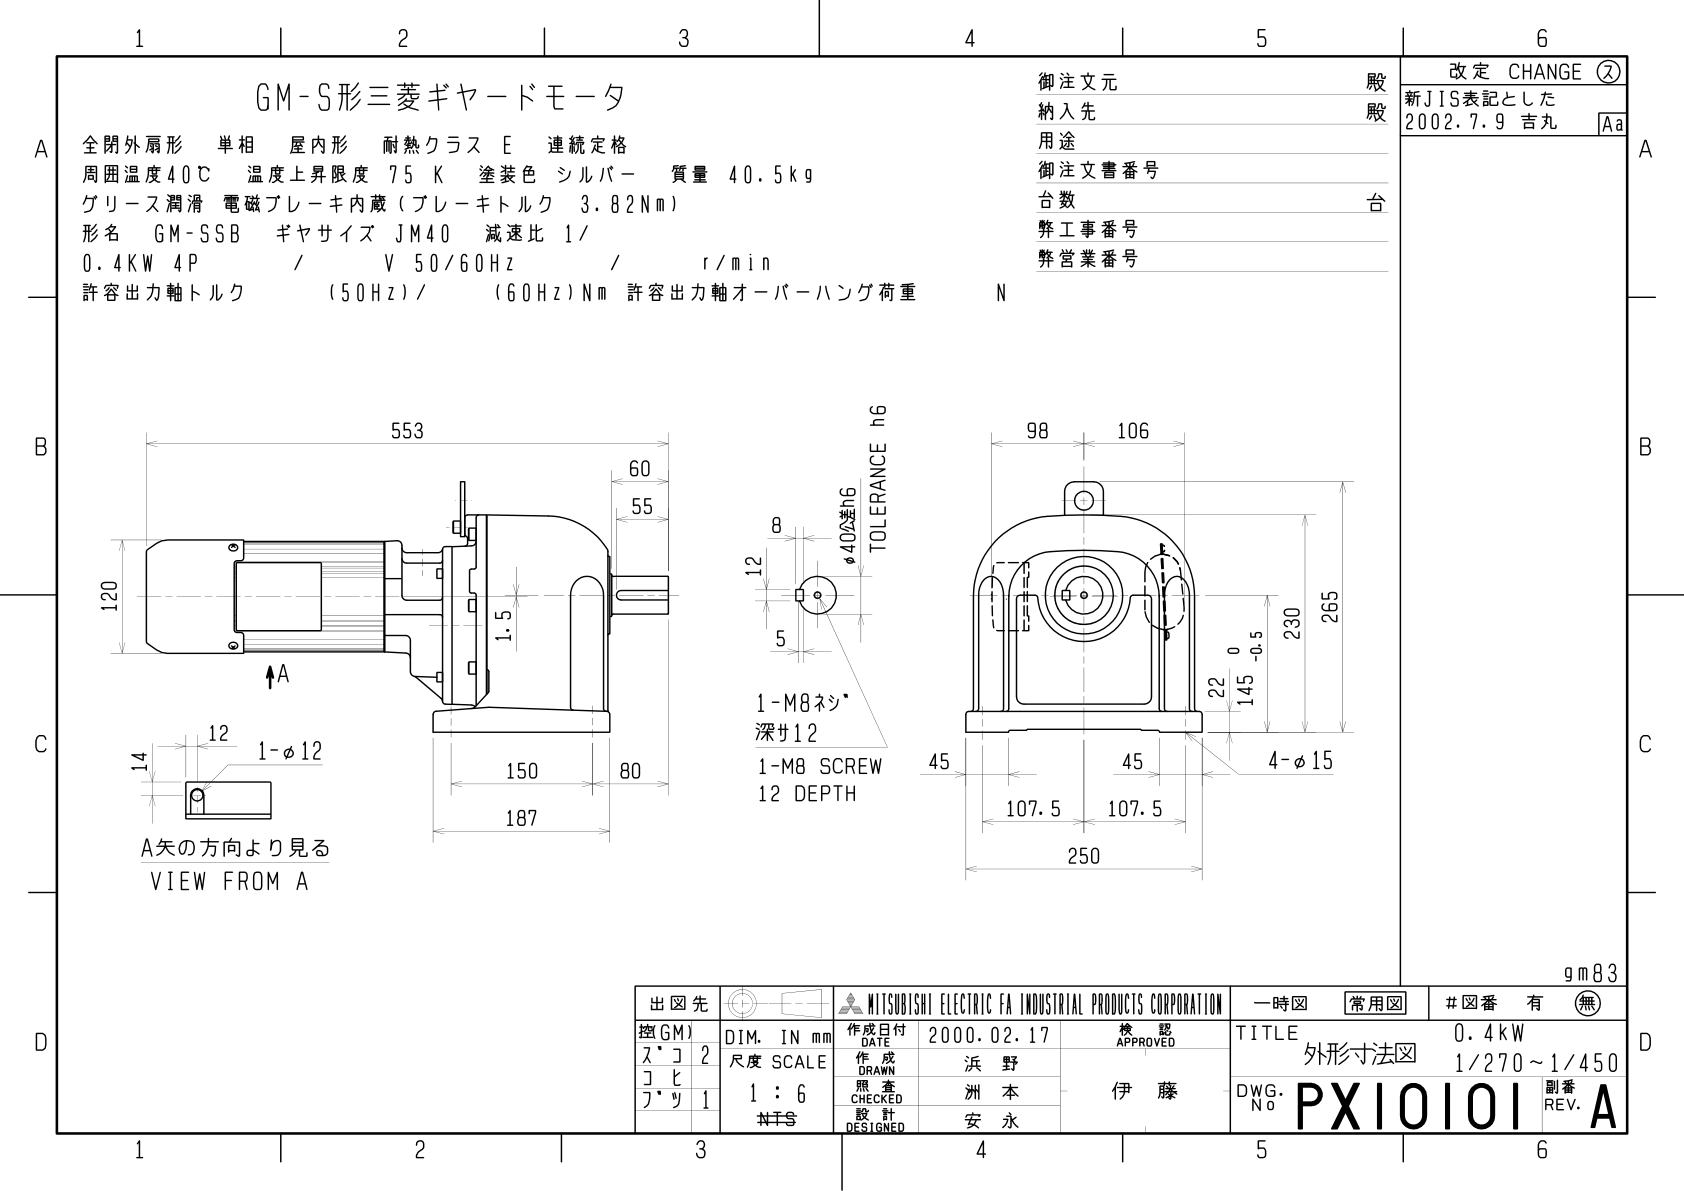GM_S_屋内＿三相_脚: (81, 378, 1364, 938)
